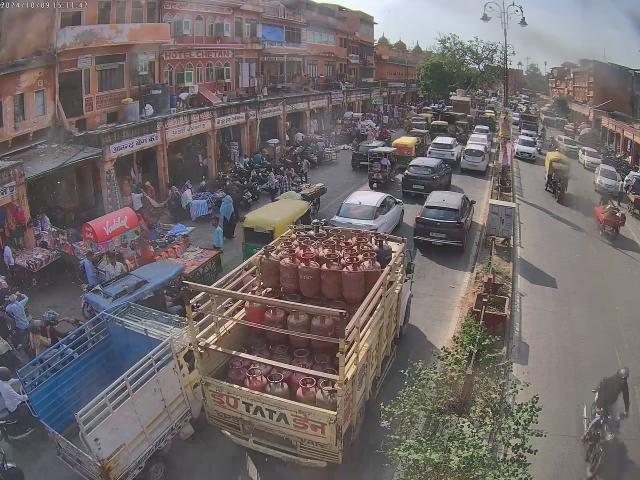auto: (239, 198, 314, 259), (366, 148, 396, 184), (391, 136, 422, 166)
car: (414, 190, 476, 248), (332, 188, 404, 234), (399, 156, 452, 198), (458, 141, 492, 174), (593, 164, 622, 194), (428, 135, 458, 163), (512, 137, 542, 162), (578, 146, 604, 170), (555, 134, 579, 157)
helmet: (615, 366, 631, 384)
lorry: (182, 226, 416, 466), (18, 302, 198, 479), (544, 152, 570, 198)
motorbike-rider: (580, 366, 631, 476)
person: (220, 195, 238, 241), (209, 220, 226, 250), (32, 209, 52, 233), (296, 154, 312, 184), (178, 179, 194, 207), (0, 240, 14, 271)
scooty-rider: (0, 291, 34, 351), (0, 362, 26, 432)
vendor: (78, 204, 146, 274), (594, 190, 626, 238)
